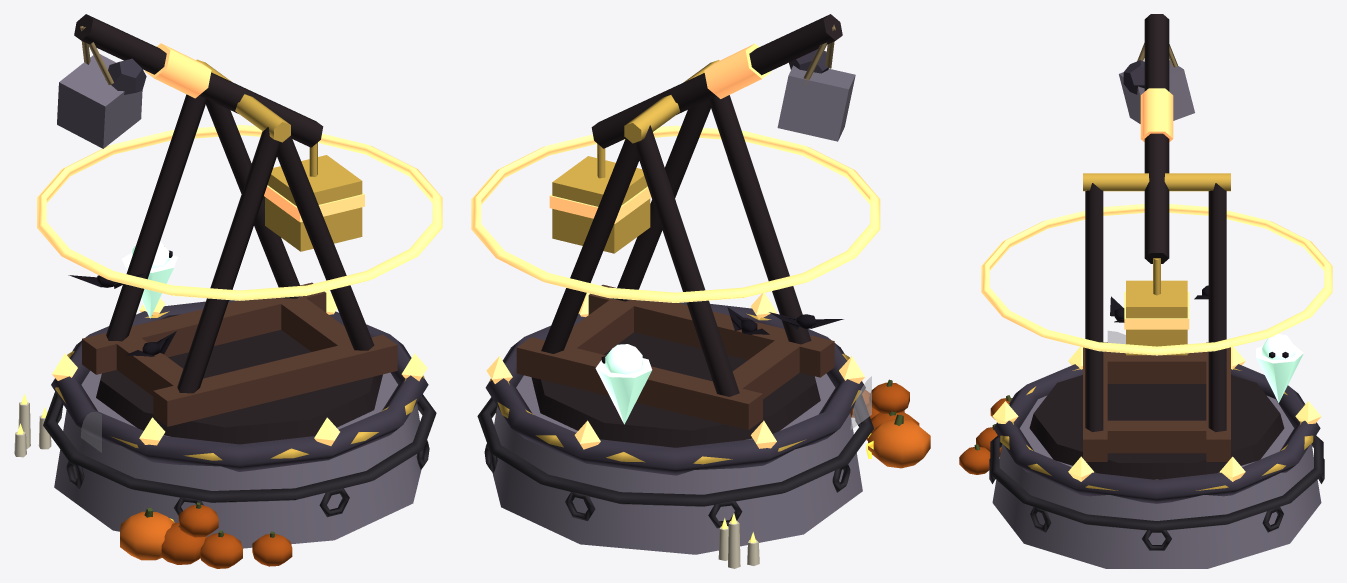
The model's file is tower_catapult_fortressBreaker_ultimate.glb.
3 views of the same model, side by side, from view 1: azimuth 30°, elevation 25°; view 2: azimuth 150°, elevation 25°; view 3: azimuth 270°, elevation 25° (orthographic). The views are drawn at different scales.
Parts seen in each view (by area): view 1: base, turntable, base_rim, ult_halo, rail_l, chain_band, aframe_back_l, rail_r, aframe_back_r, breaker_block, arm_beam, counterweight (+17 smaller); view 2: base, base_rim, turntable, ult_halo, rail_r, chain_band, aframe_back_r, rail_l, aframe_back_l, arm_beam, counterweight, aframe_front_r (+14 smaller); view 3: base, turntable, base_rim, ult_halo, arm_beam, chain_band, aframe_front_l, aframe_front_r, cross_e, counterweight, cross_w, axle (+10 smaller).
Boxes of the visible parts, x1,y1,x2,y2 form: base: [54, 371, 421, 548]; turntable: [96, 314, 382, 444]; base_rim: [51, 300, 428, 471]; ult_halo: [37, 124, 442, 300]; rail_l: [153, 334, 397, 426]; chain_band: [43, 392, 436, 502]; aframe_back_l: [177, 127, 279, 393]; rail_r: [82, 282, 326, 374]; aframe_back_r: [106, 94, 206, 341]; breaker_block: [57, 54, 142, 148]; arm_beam: [74, 14, 323, 147]; counterweight: [265, 155, 362, 251]; base: [492, 373, 862, 554]; base_rim: [485, 302, 865, 475]; turntable: [531, 317, 820, 447]; ult_halo: [471, 125, 880, 302]; rail_r: [516, 337, 762, 429]; chain_band: [477, 395, 873, 506]; aframe_back_r: [635, 125, 739, 396]; rail_l: [588, 284, 834, 377]; aframe_back_l: [708, 95, 811, 344]; arm_beam: [591, 14, 842, 148]; counterweight: [552, 156, 650, 253]; aframe_front_r: [541, 138, 639, 353]; base: [992, 395, 1321, 568]; turntable: [1029, 375, 1284, 479]; base_rim: [993, 364, 1320, 503]; ult_halo: [981, 204, 1332, 355]; arm_beam: [1144, 14, 1169, 263]; chain_band: [990, 435, 1323, 530]; aframe_front_l: [1085, 183, 1103, 432]; aframe_front_r: [1208, 183, 1226, 432]; cross_e: [1083, 420, 1230, 453]; counterweight: [1126, 280, 1187, 355]; cross_w: [1083, 351, 1230, 383]; axle: [1083, 173, 1230, 191].
Size of the model in its own units: 0.4395 by 0.5707 by 0.4541.
